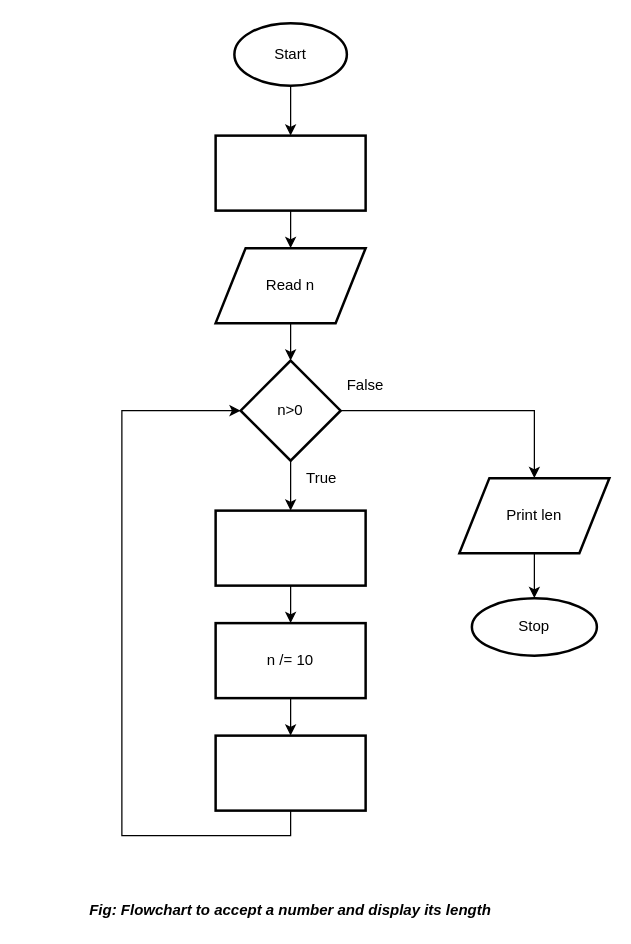
This 631x944 diagram has some shape labels left out. The centre of each missing label's shape, as x and y in pixels:
d = d % 10: pixel 290 547
len = 0: pixel 290 172
len++: pixel 290 772
